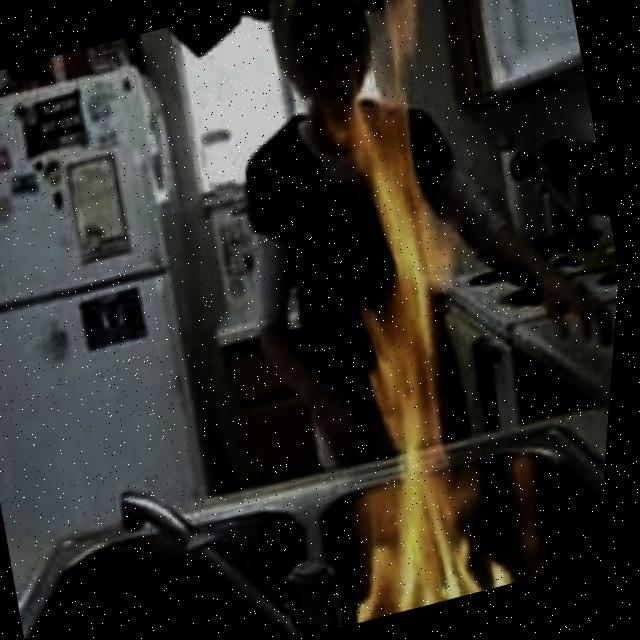Fire: (231, 76, 555, 628)
